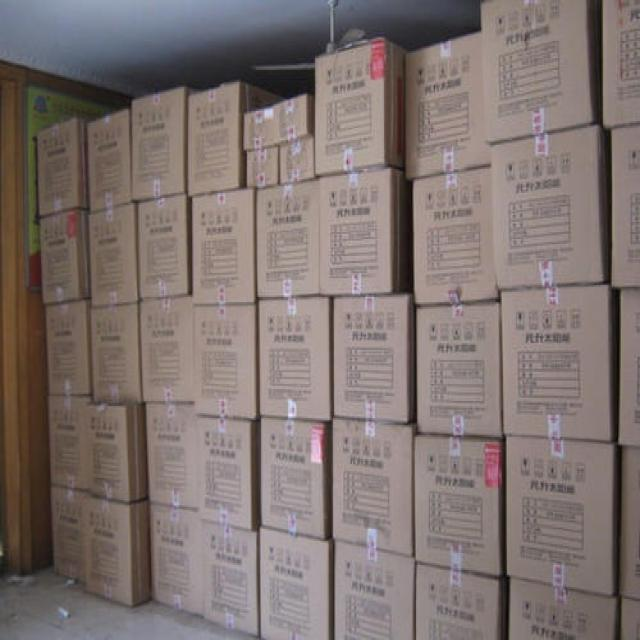box: (489, 126, 610, 290), (499, 284, 620, 441), (504, 435, 622, 594), (480, 1, 600, 144), (315, 39, 407, 177), (416, 435, 504, 577), (406, 32, 491, 179), (318, 168, 414, 298), (187, 81, 290, 196), (416, 302, 501, 438), (412, 169, 495, 307), (332, 419, 415, 556), (332, 292, 416, 424), (256, 298, 332, 420), (259, 417, 333, 540), (258, 527, 333, 638), (130, 88, 202, 201), (333, 541, 414, 638), (188, 191, 257, 304), (194, 413, 259, 531), (256, 179, 318, 302), (86, 494, 153, 607), (194, 304, 258, 417), (505, 576, 620, 638), (198, 521, 259, 637), (415, 560, 505, 638), (84, 400, 147, 505), (138, 296, 195, 403), (149, 503, 201, 615), (87, 200, 140, 306), (144, 403, 197, 509), (137, 194, 191, 298), (37, 209, 90, 306), (91, 302, 142, 402), (37, 120, 89, 216), (600, 0, 639, 128), (86, 109, 133, 211), (44, 298, 93, 394), (610, 126, 639, 287), (47, 395, 91, 492), (242, 94, 315, 151), (50, 484, 88, 581), (618, 287, 639, 445), (620, 445, 639, 599), (279, 138, 316, 183), (245, 144, 280, 188), (620, 595, 639, 638)
